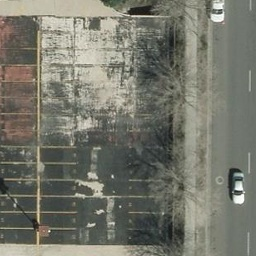car: (206, 1, 227, 23), (231, 170, 244, 205)
